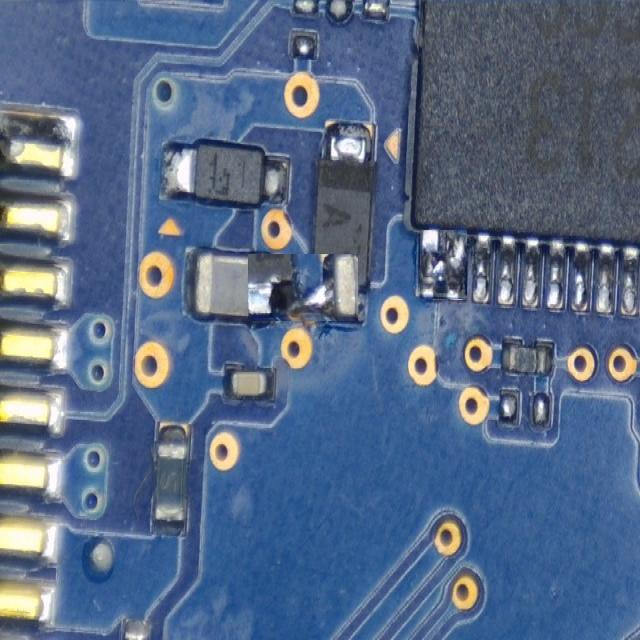Short_circuit: (249, 254, 356, 319), (419, 229, 467, 299)
